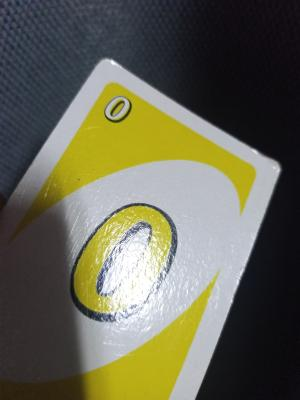num_0: (55, 185, 187, 333), (99, 91, 144, 128)
